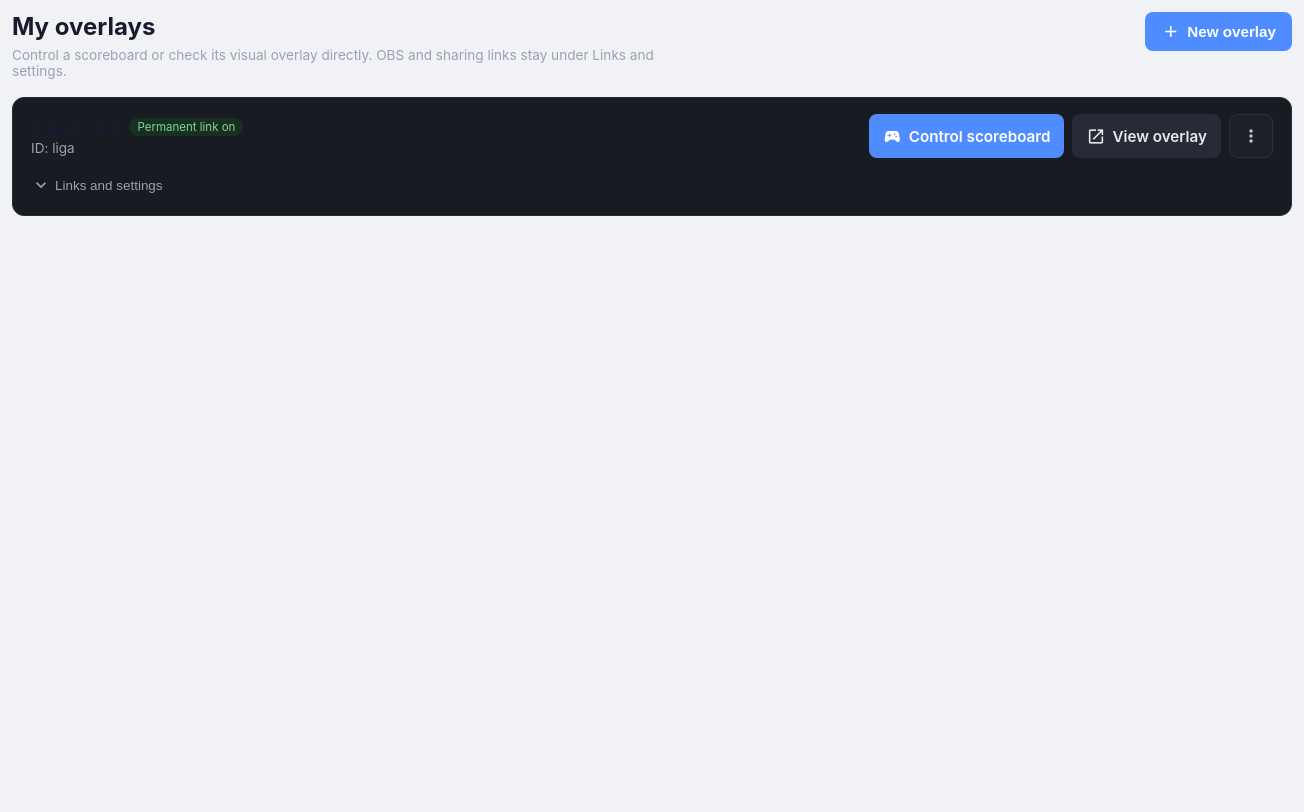
Test case: OverlaysPage › flags the bookmark with a chip in the collapsed header when enabled
expect the text "Permanent link on" is shown: met, box [129,118,244,136]
// Once expanded, the Advanced disclosure is open and shows the bookmark URL.
Click the button "Links and settings": (99, 185) [31,166,167,204]
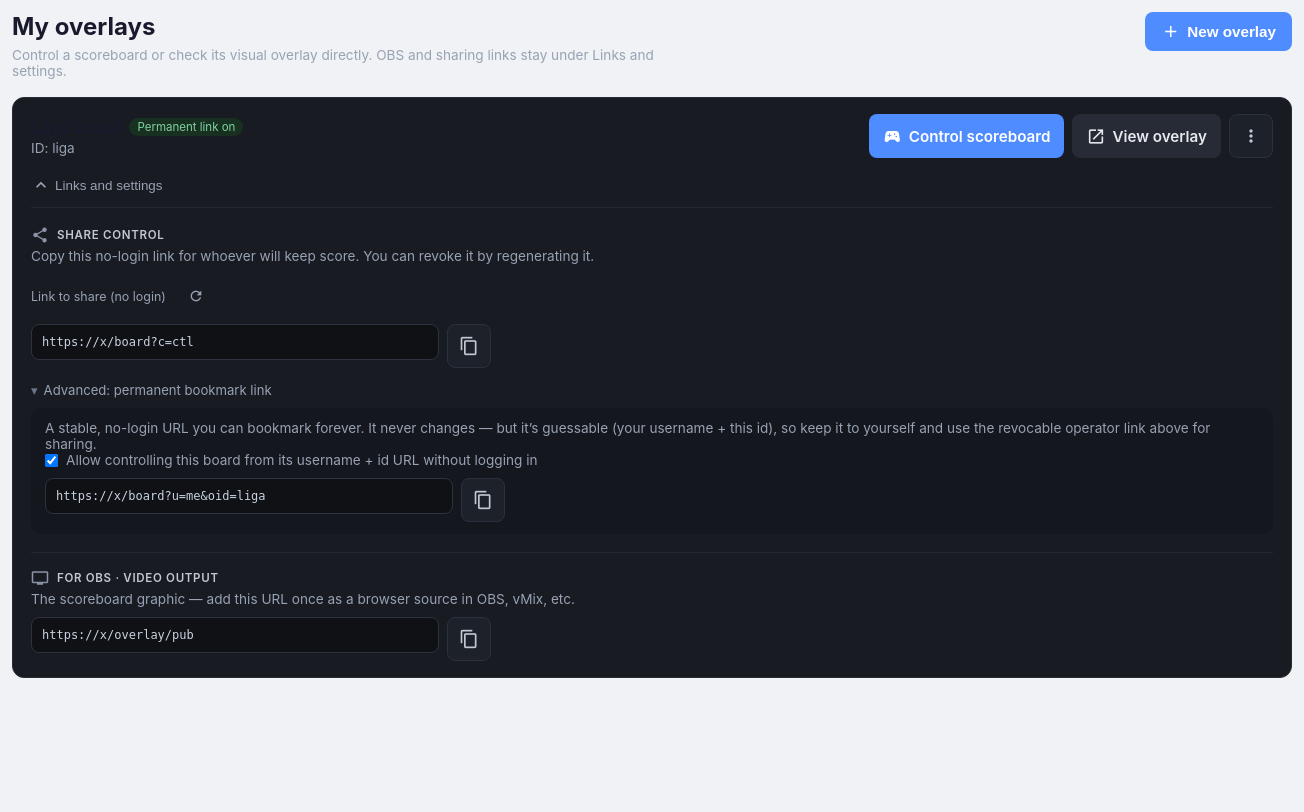
expect the field "https://x/board?u=me&oid=liga" is shown: met, box [45,478,453,514]
